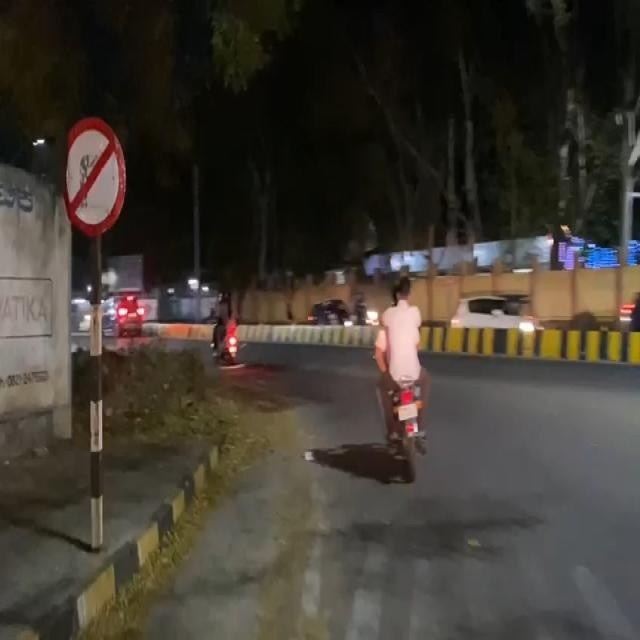bien_cam: (60, 112, 127, 240)
